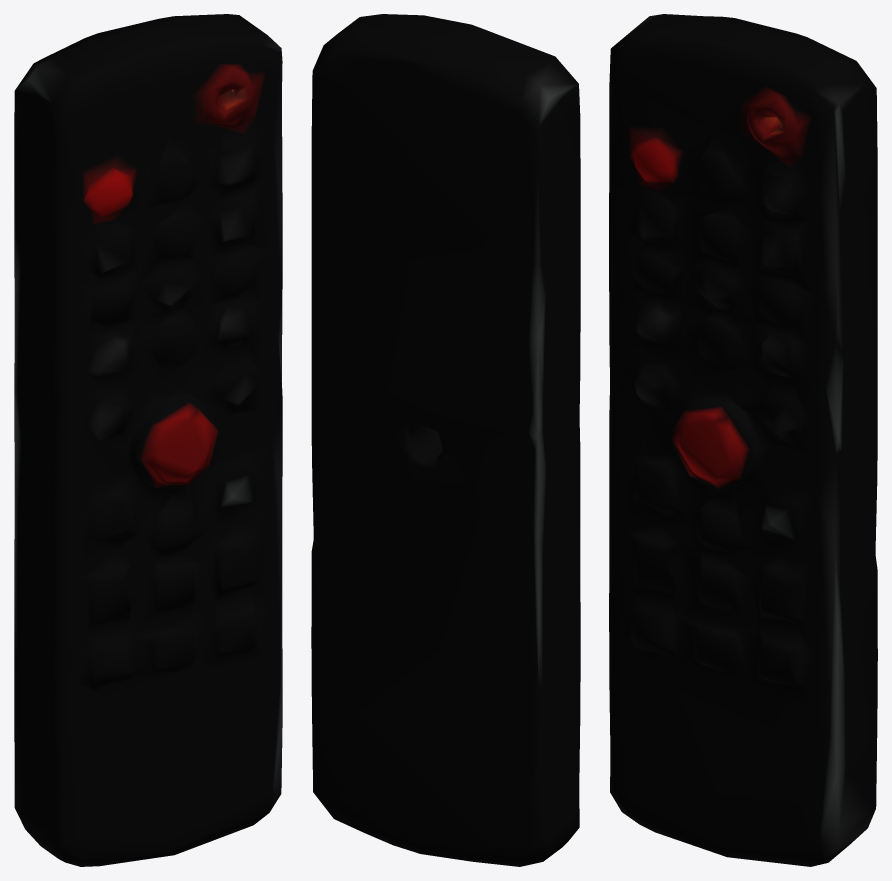
File: gen3d-remote-control-lod0.glb
3 renders of one model, left to right at view 1: azimuth 30°, elevation 25°; view 2: azimuth 150°, elevation 25°; view 3: azimuth 330°, elevation 25°, orthographic.
Parts seen in each view (by area): view 1: part_0; view 2: part_0; view 3: part_0.
Part boxes in pixels (x1=…): part_0: x1=14, y1=14, x2=282, y2=866; part_0: x1=311, y1=14, x2=580, y2=866; part_0: x1=609, y1=14, x2=877, y2=866.
Size of the model in its own units: 0.2947 by 0.9999 by 0.1291.
